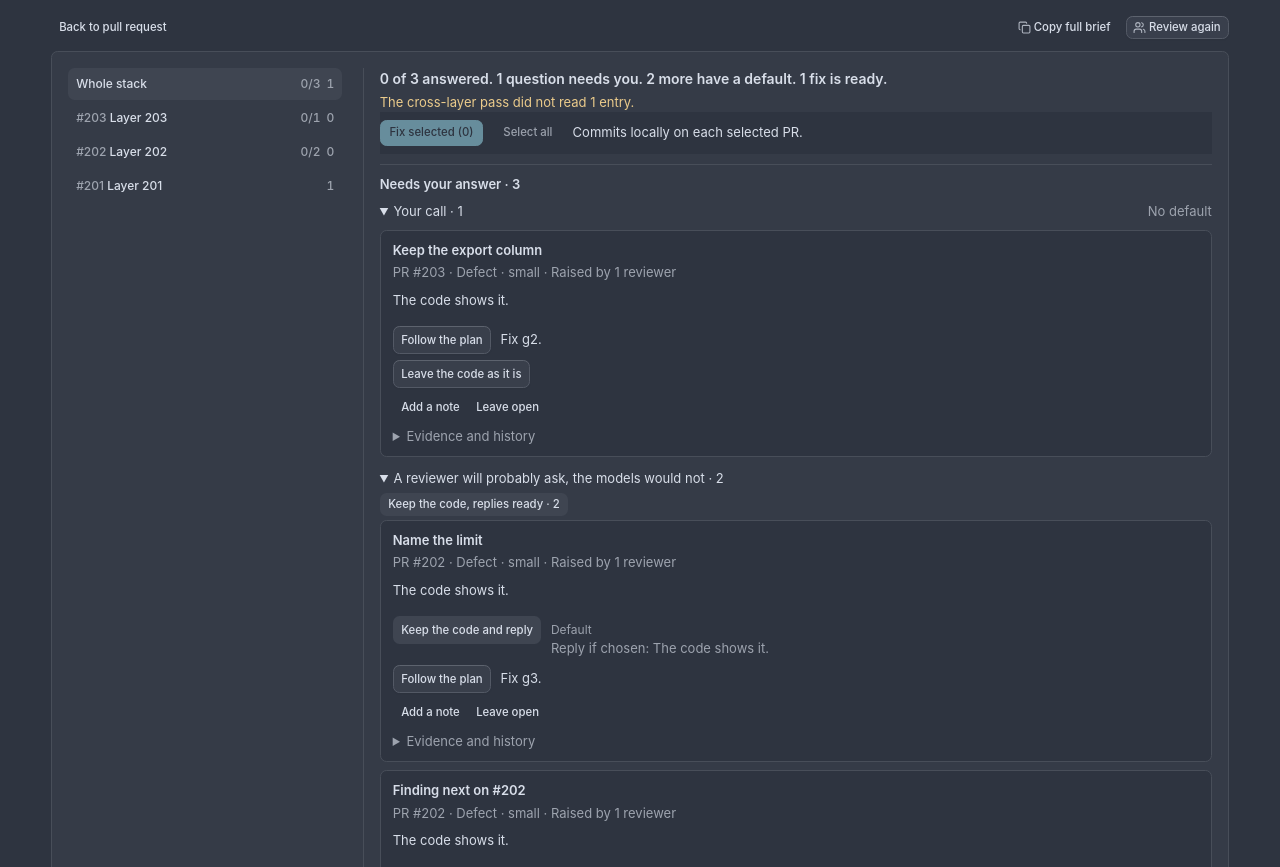
Test: bulk-applies explicit defaults and allows reopening one answer
The image size is (1280, 867).
Click the button "Keep the code, replies ready · 2": (474, 504) [380,493,568,516]
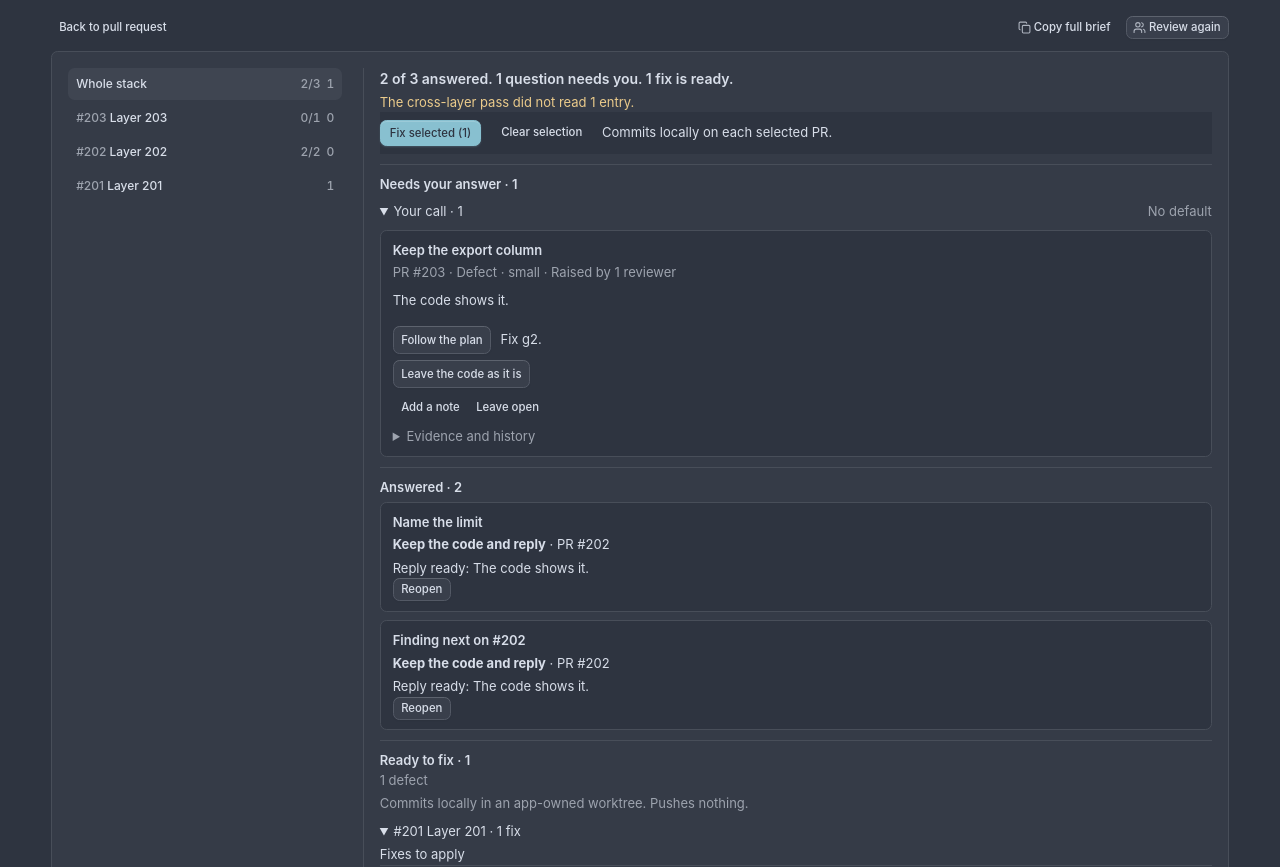
Now the heading "Answered · 2" is shown, box [380,479,462,495]
Click the button "Reopen" below "Name the limit": (421, 590) [393,578,450,601]
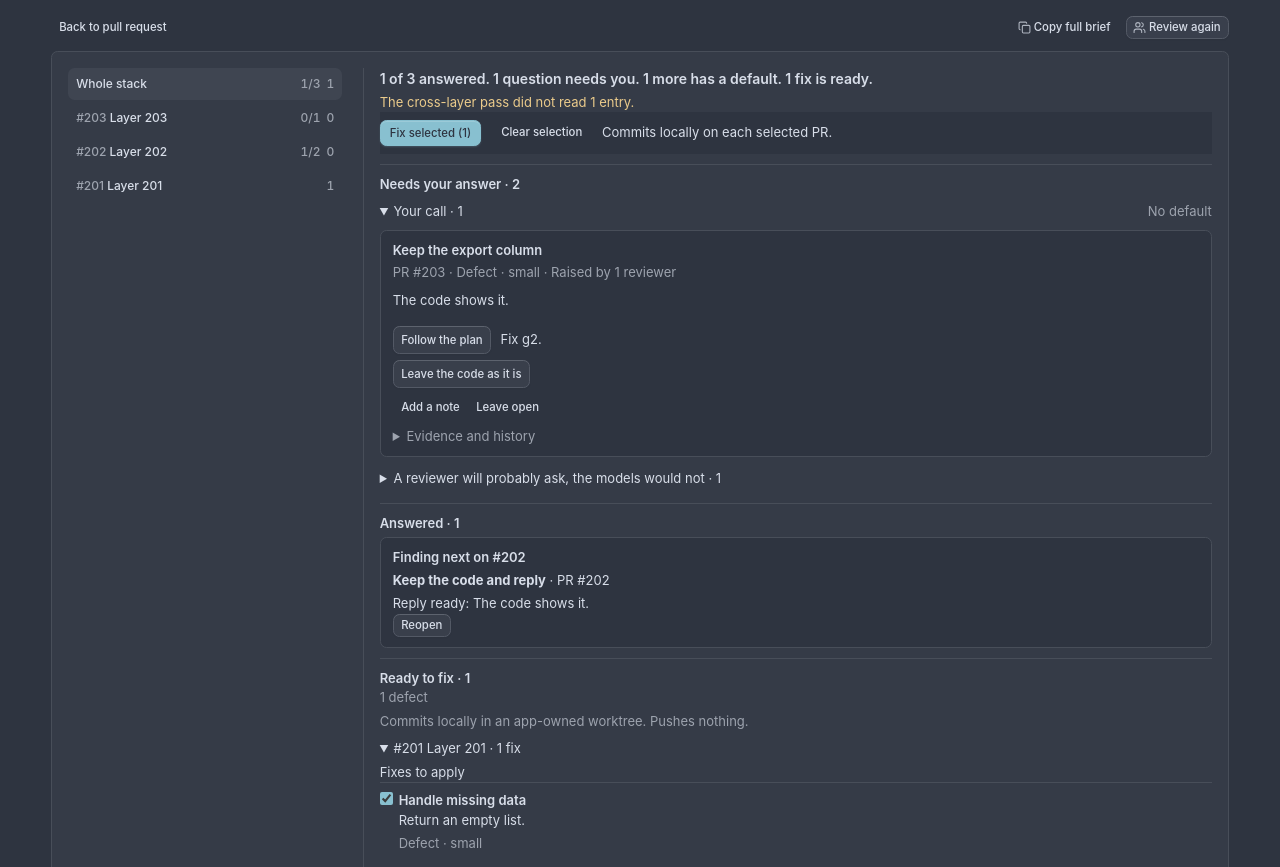
Now the heading "Answered · 1" is shown, box [380,515,460,531]
Now the heading "A reviewer will probably ask, the models would not · 1" is shown, box [393,470,721,486]
